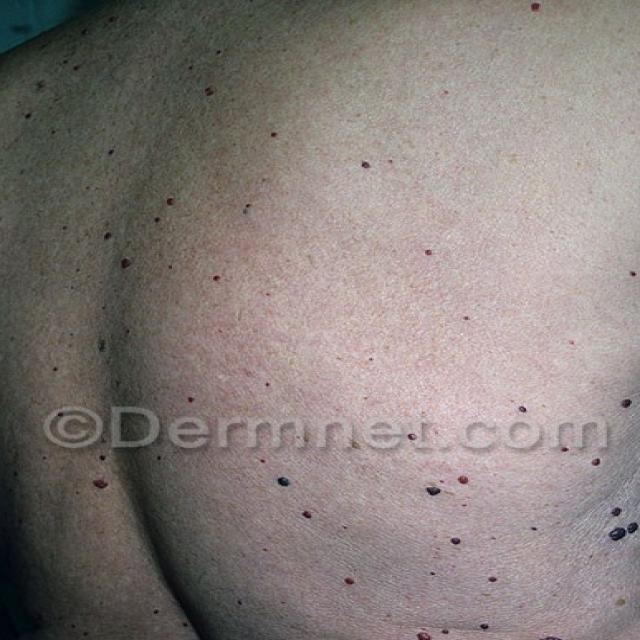Vascular Tumors: (494, 389, 640, 480), (253, 452, 332, 610), (390, 456, 493, 566), (80, 188, 211, 268), (64, 428, 176, 513), (569, 488, 640, 580), (187, 60, 266, 135), (330, 134, 405, 189), (510, 0, 576, 34), (0, 101, 58, 136)
